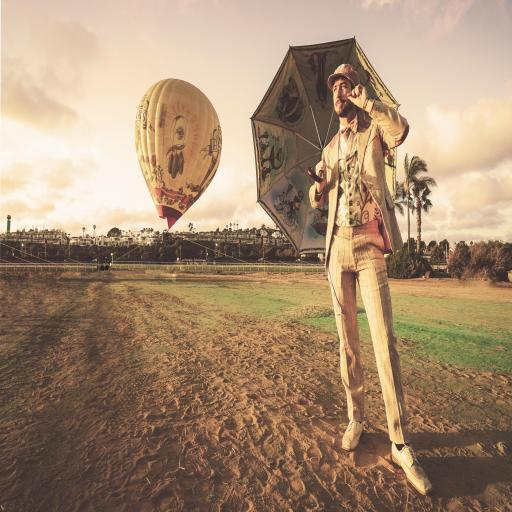hot air ballon: (134, 80, 222, 244)
